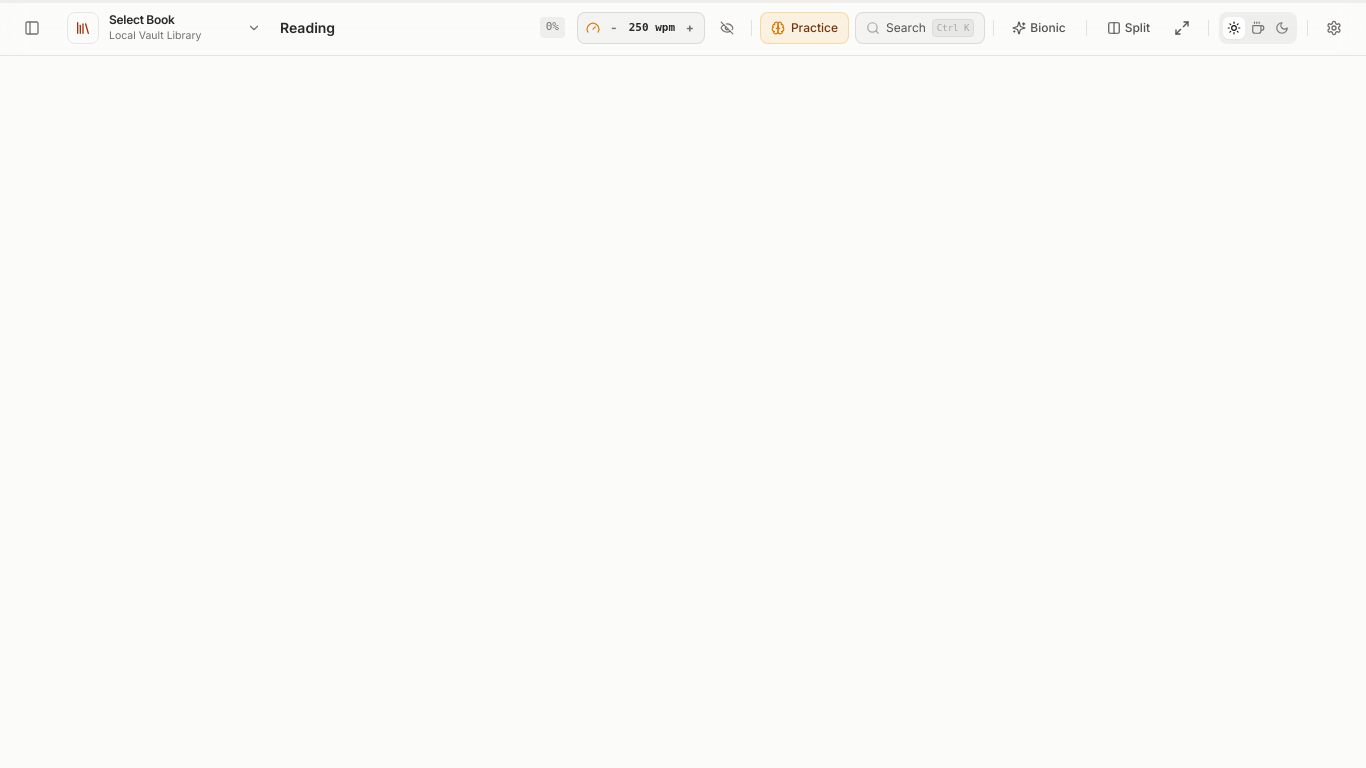
cards that did not load are not 'no cards due'
The width and height of the screenshot is (1366, 768).
Click the button titled "Open Extractive Practice Suite".
click(804, 28)  # box [760,12,849,44]
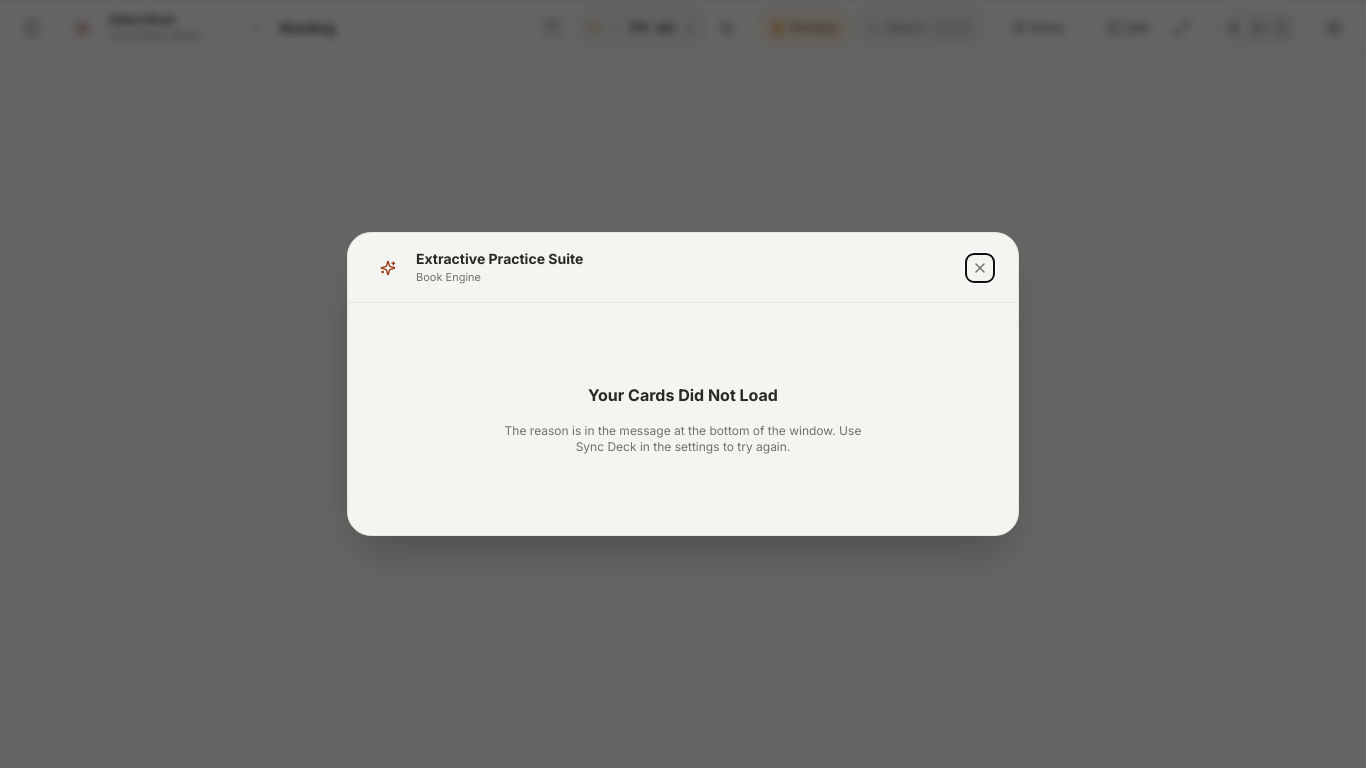
Now the heading "Your Cards Did Not Load" is shown, box [588,385,778,405]
